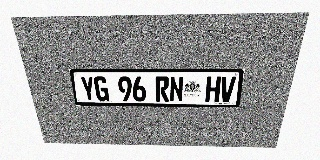6: (132, 76, 146, 101)
9: (117, 76, 133, 101)
G: (93, 76, 109, 101)
H: (205, 76, 221, 102)
N: (169, 76, 184, 102)
R: (155, 76, 169, 102)
V: (219, 76, 236, 102)
Y: (79, 76, 96, 101)
